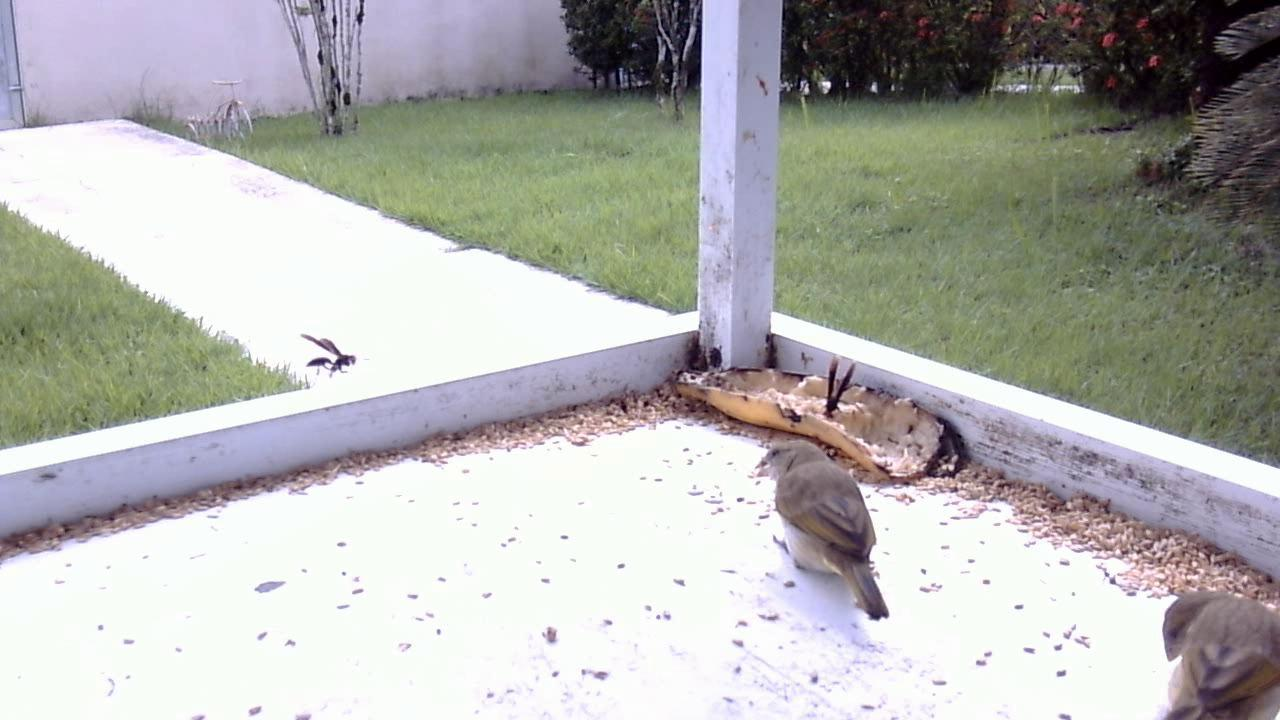canario_do_amazonas: (690, 400, 900, 625), (1149, 582, 1278, 713)
